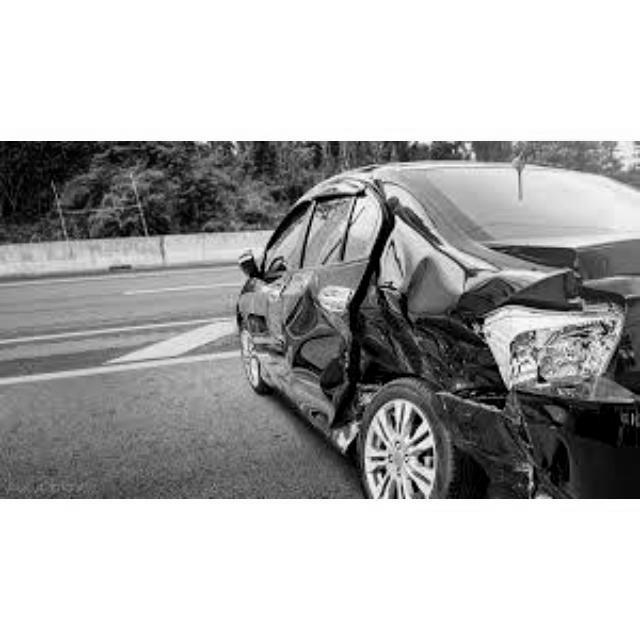doorouter-dent: (274, 268, 359, 417)
quaterpanel-dent: (354, 227, 460, 406)
rear-bumper-dent: (446, 383, 638, 498)
